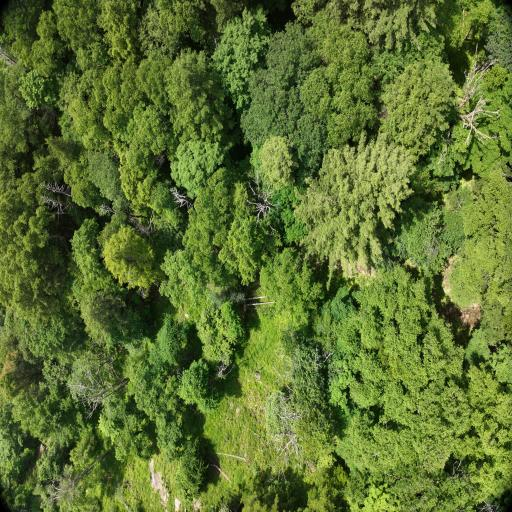dead-tree: (454, 54, 499, 151), (41, 448, 119, 500), (65, 366, 139, 420), (98, 202, 155, 239), (246, 169, 278, 228), (36, 178, 78, 217), (166, 184, 200, 215)
